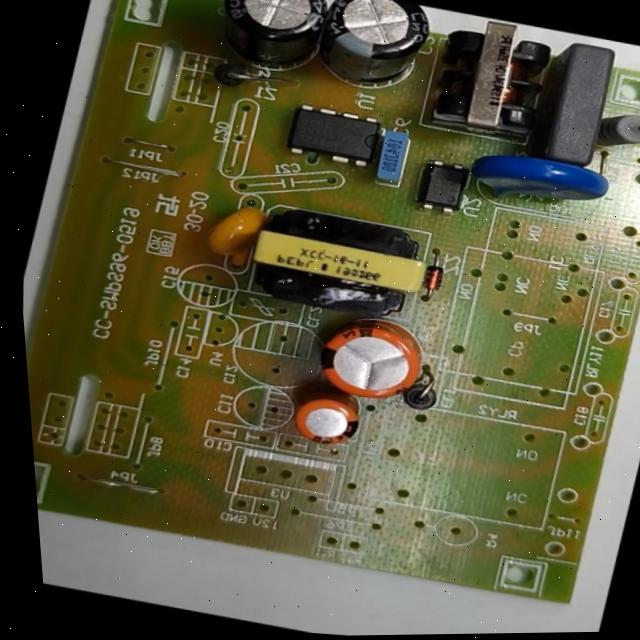Cap1: (288, 303, 445, 413)
Cap2: (273, 379, 379, 456)
Cap3: (294, 0, 449, 109)
Cap4: (190, 0, 352, 91)
MOSFET: (263, 92, 402, 181)
Mov: (451, 140, 623, 227)
Resistor: (586, 101, 640, 163)
Transformer: (220, 196, 449, 336), (410, 7, 573, 149)
